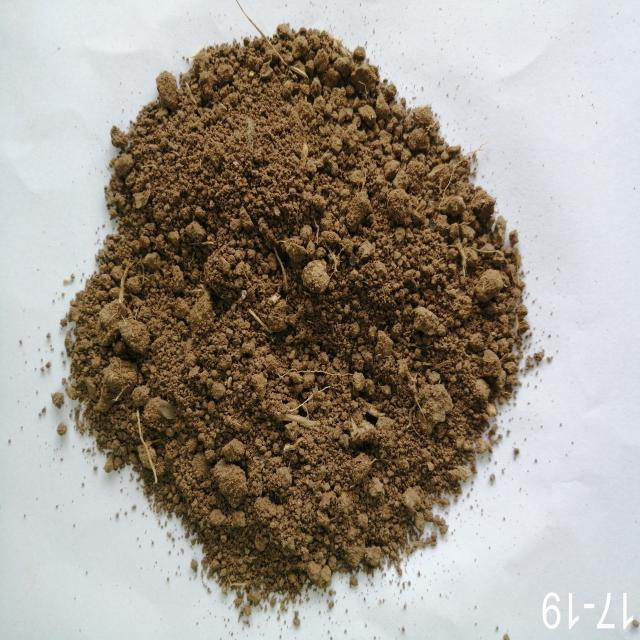soil: (171, 119, 420, 543)
